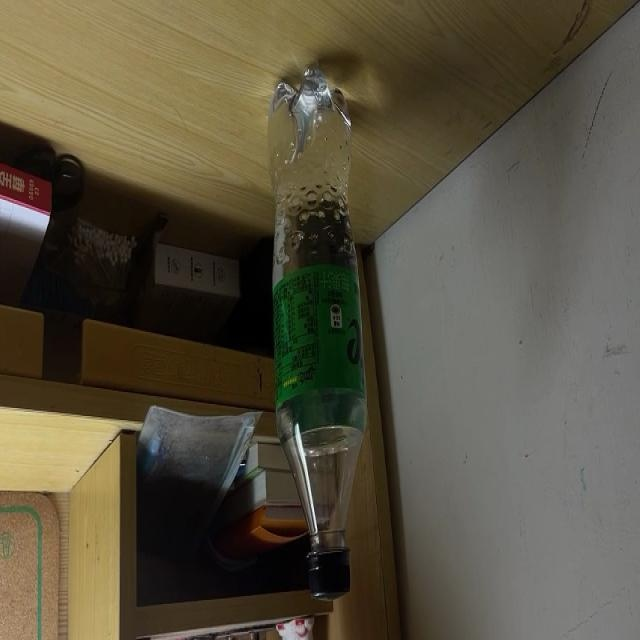Sprite: (271, 67, 371, 600)
